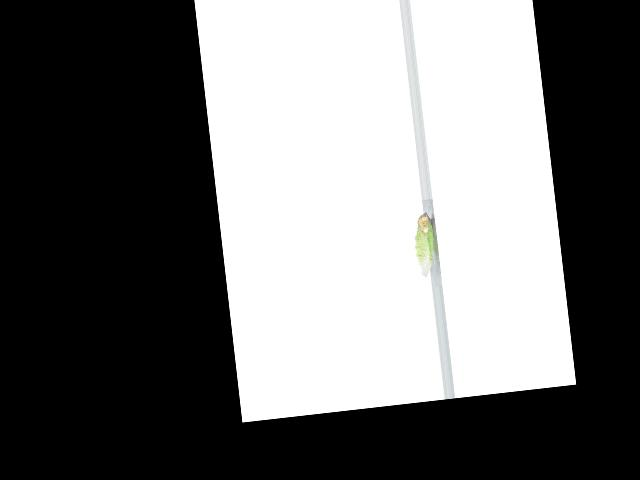lettuce: (408, 209, 441, 278)
